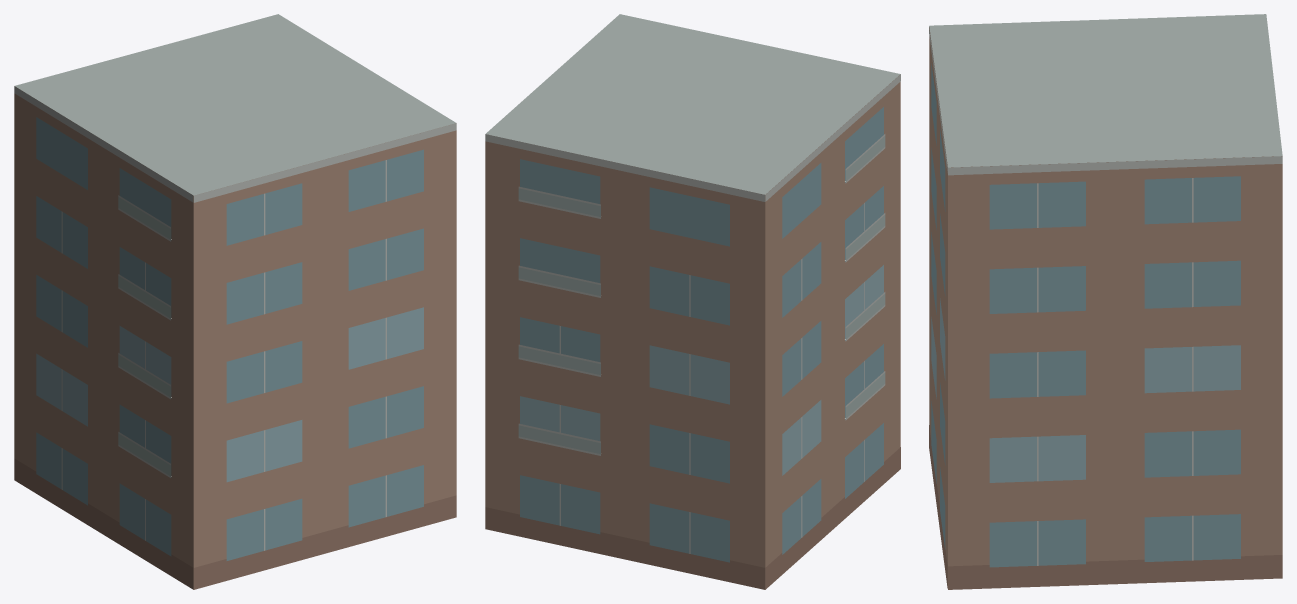
File: survey-upis-32932859.glb
The picture shows the model from 3 angles, left to right: view 1: azimuth 30°, elevation 25°; view 2: azimuth 150°, elevation 25°; view 3: azimuth 270°, elevation 25°; orthographic projection. The views are drawn at different scales.
Parts seen in each view (by area): view 1: survey-upis-32932859.tmp; view 2: survey-upis-32932859.tmp; view 3: survey-upis-32932859.tmp.
Part boxes in pixels (<box>): survey-upis-32932859.tmp: <box>14,14,456,589</box>; survey-upis-32932859.tmp: <box>485,14,900,589</box>; survey-upis-32932859.tmp: <box>929,14,1282,589</box>.
Size of the model in its own units: 10.3 by 13.2 by 10.02.
